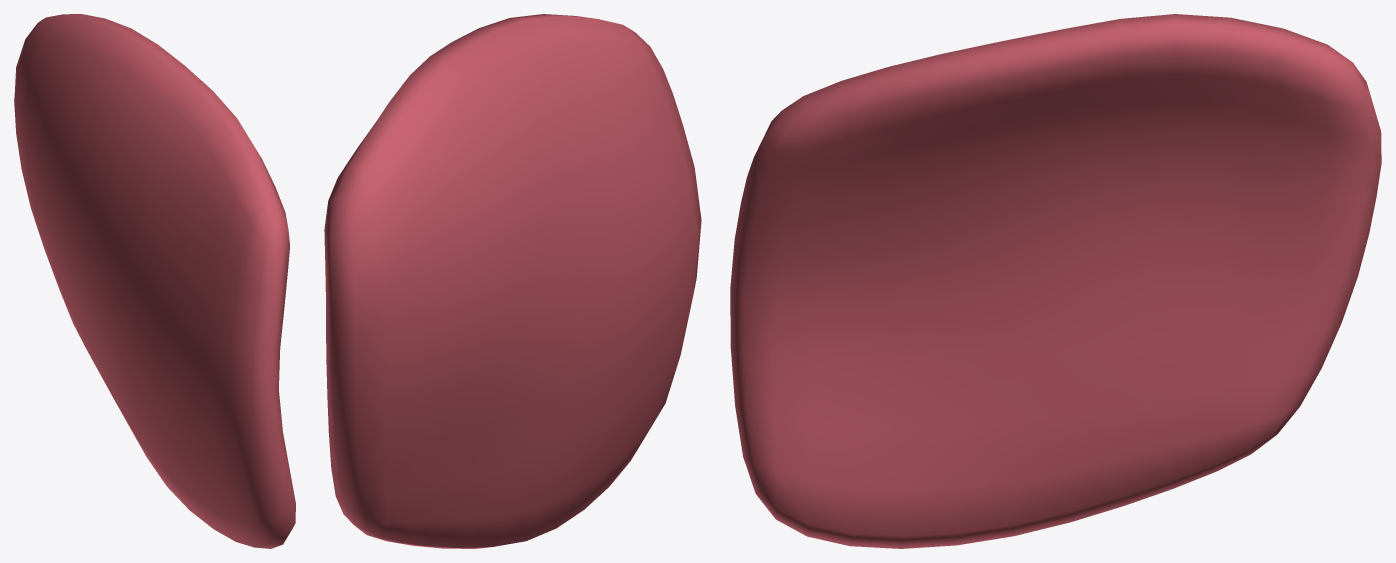
3 renders of one model, left to right at view 1: azimuth 30°, elevation 25°; view 2: azimuth 150°, elevation 25°; view 3: azimuth 270°, elevation 25°, orthographic. The views are drawn at different scales.
Parts seen in each view (by area): view 1: 右侧外踝皮下囊; view 2: 右侧外踝皮下囊; view 3: 右侧外踝皮下囊.
Boxes of the visible parts, box(x1,y1,x2,y2) form: 右侧外踝皮下囊: box(14, 14, 295, 548); 右侧外踝皮下囊: box(324, 14, 701, 548); 右侧外踝皮下囊: box(730, 14, 1381, 548).
Bounding box in the file's own units: 0.0062 × 0.0267 × 0.0297.
